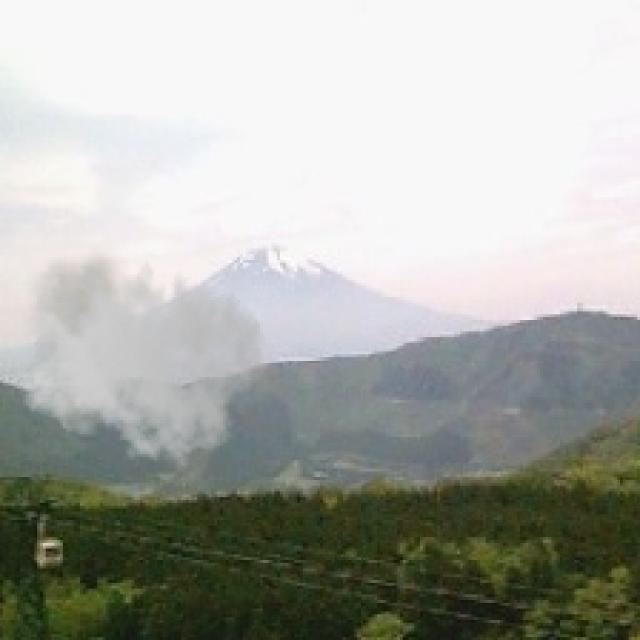Smoke: (14, 246, 266, 468)
